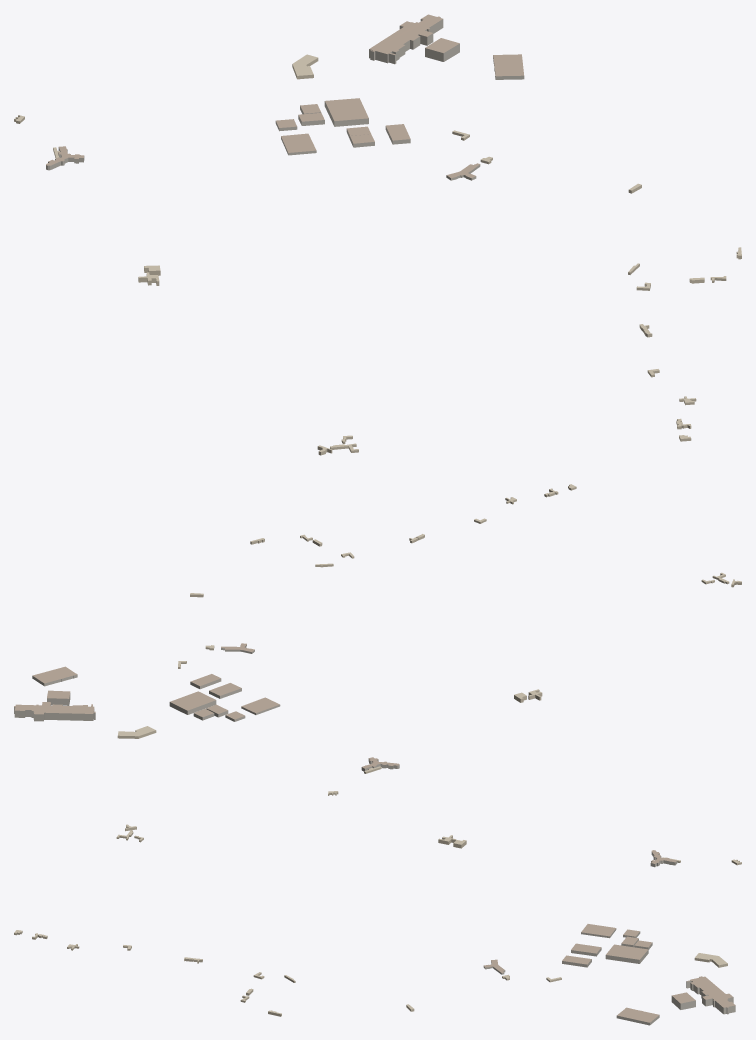
3 views of the same model, one above another, from view 1: azimuth 30°, elevation 25°; view 2: azimuth 150°, elevation 25°; view 3: azimuth 270°, elevation 25° (orthographic). The views are drawn at different scales.
Size of the model in its own units: 1505 by 37.58 by 2306.
